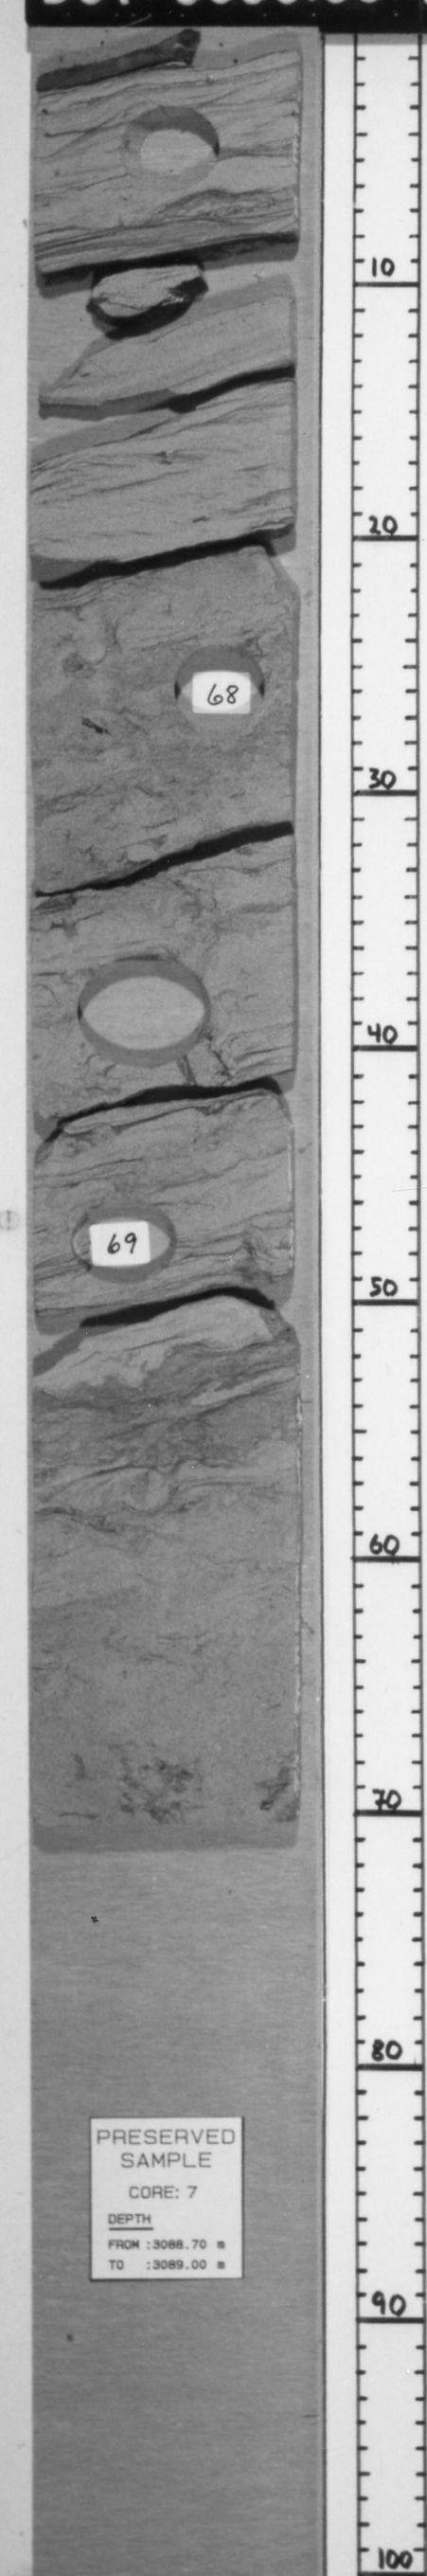hplug: (117, 95, 232, 196), (66, 1188, 186, 1283), (169, 631, 266, 739)
scal: (71, 946, 218, 1076)
